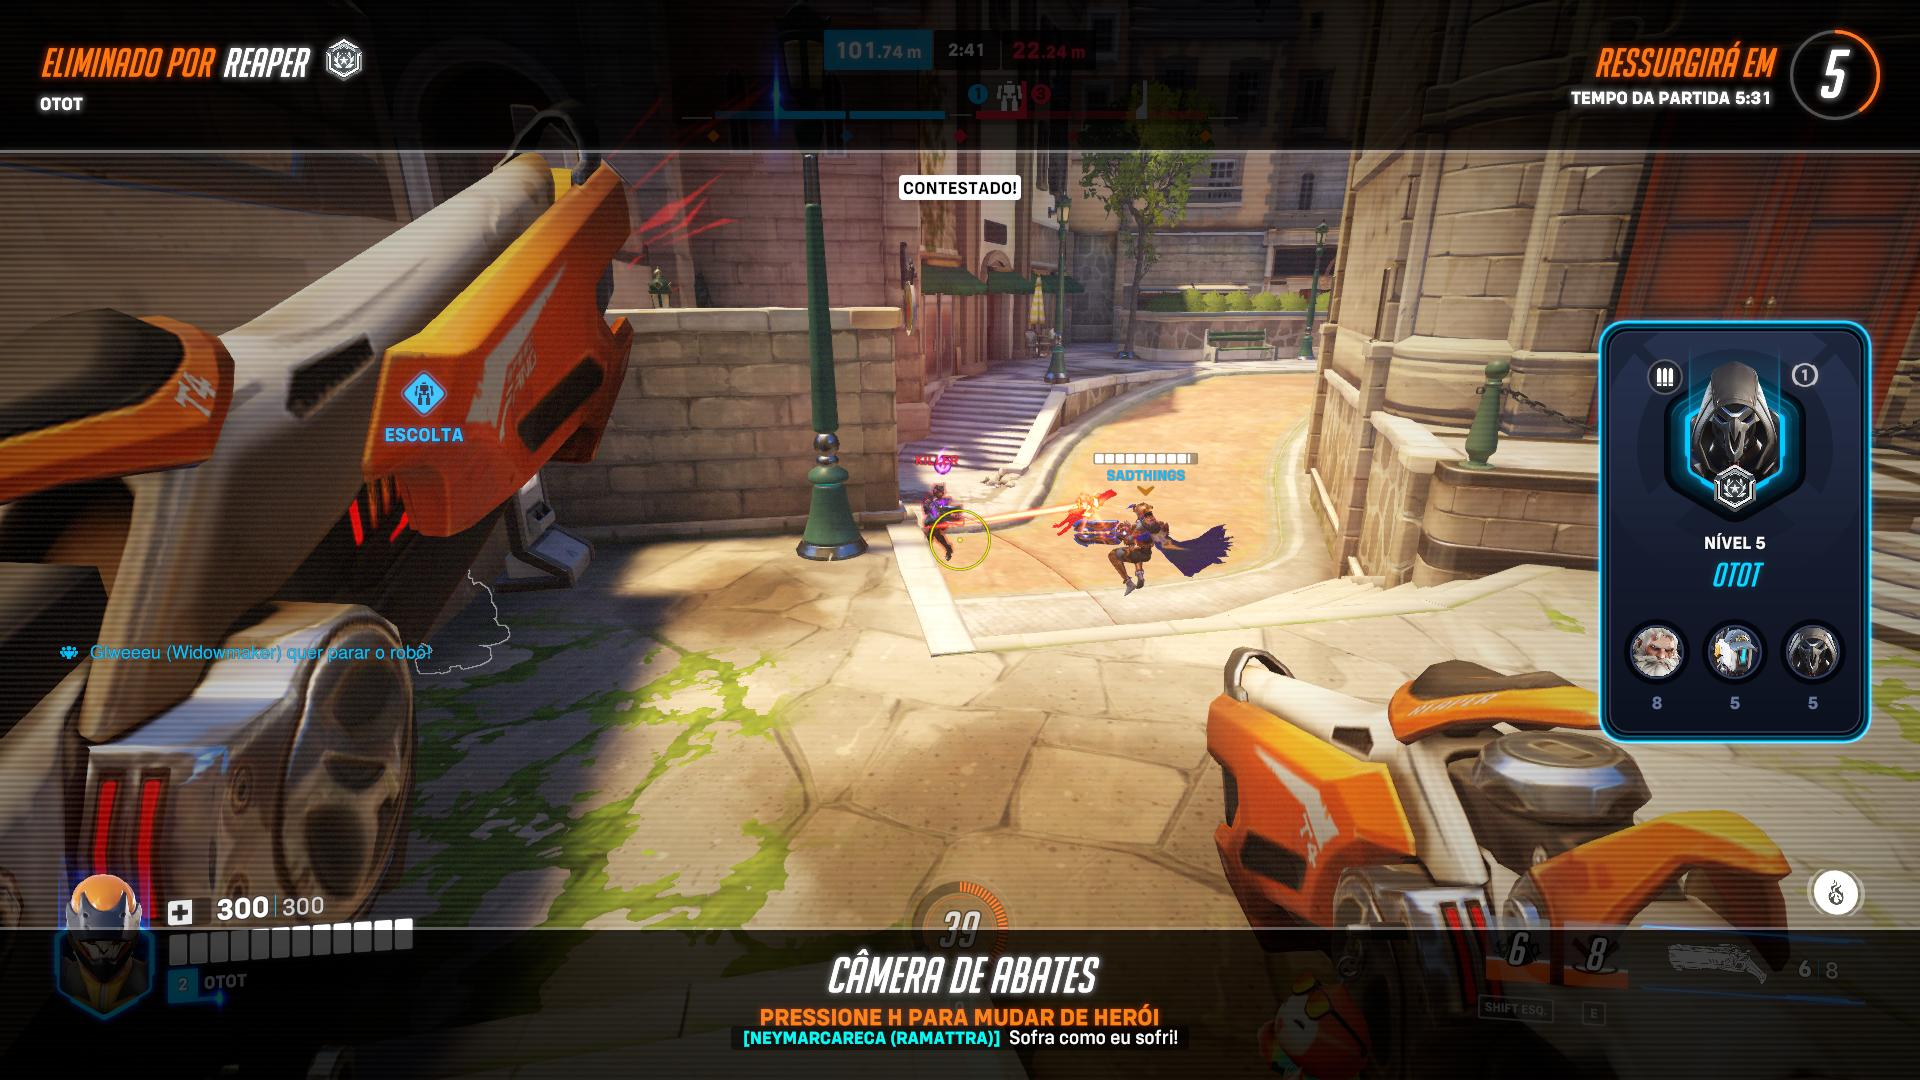enemy: (923, 484, 953, 562)
